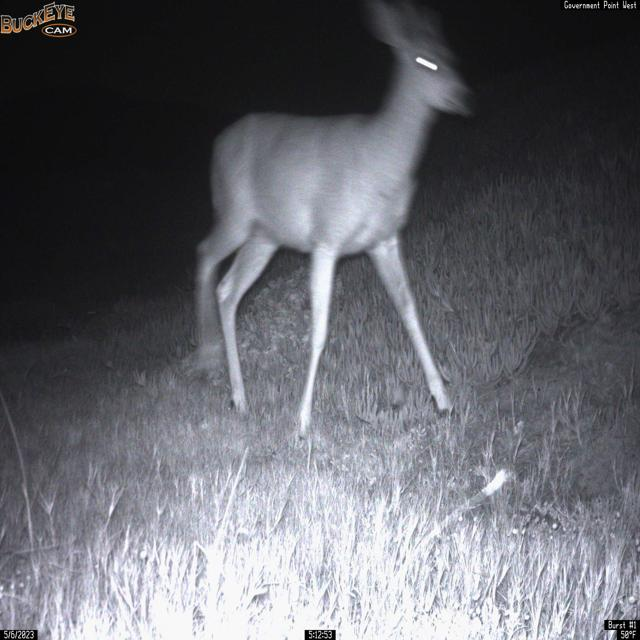deer: (192, 0, 477, 443)
